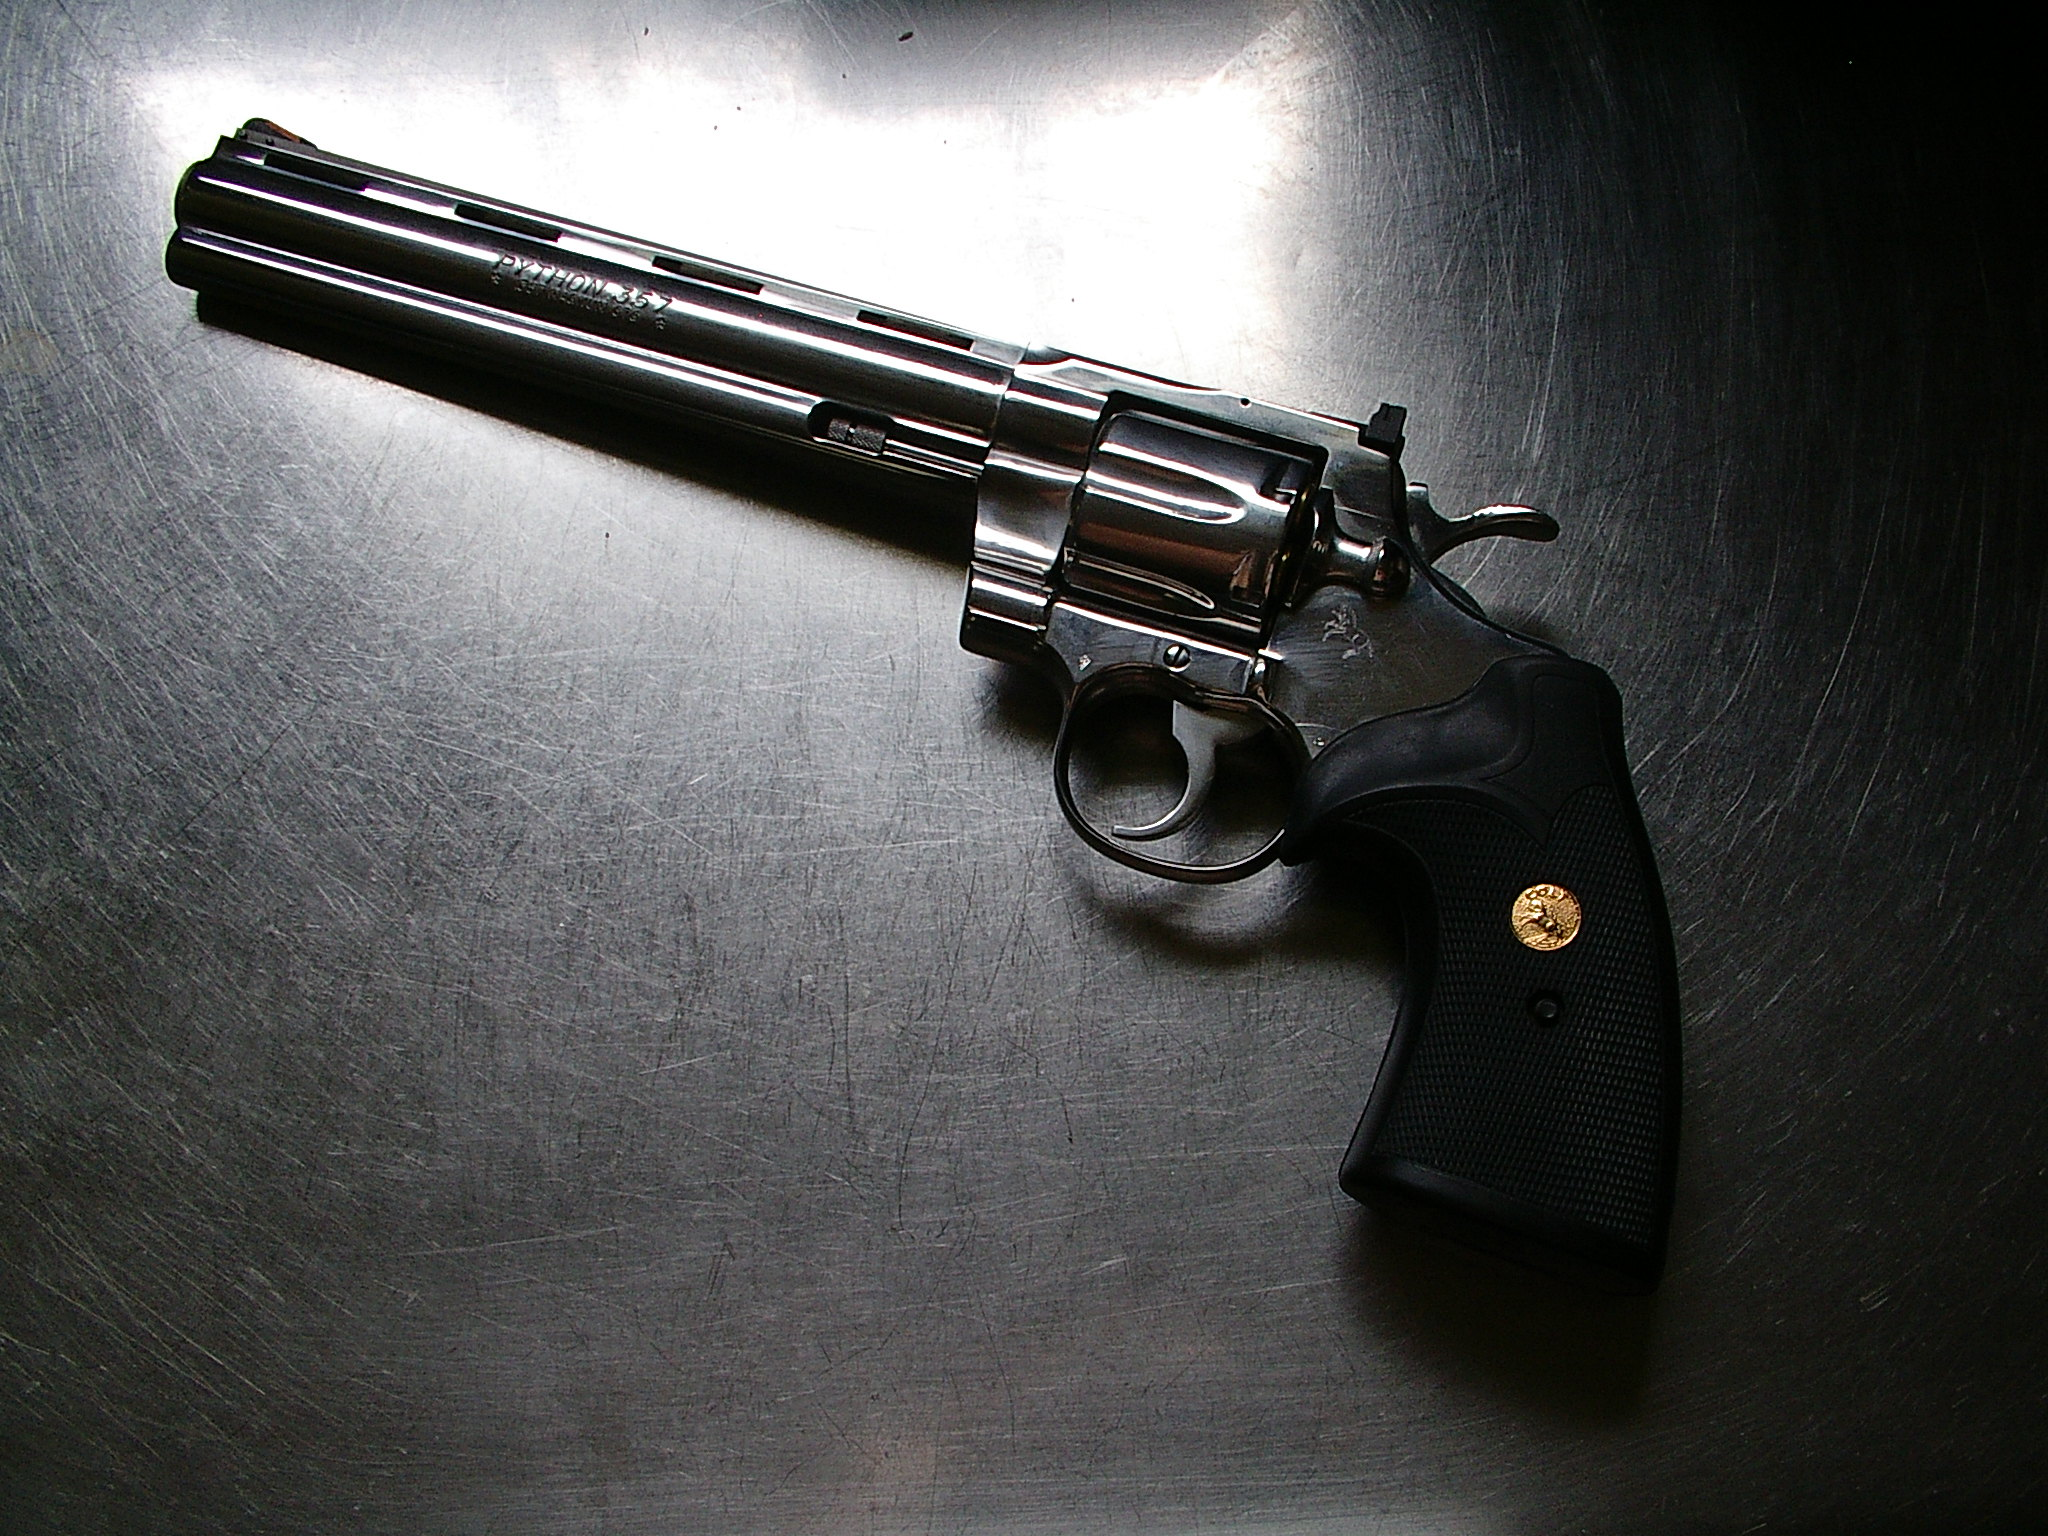gun: (140, 98, 1716, 1333)
